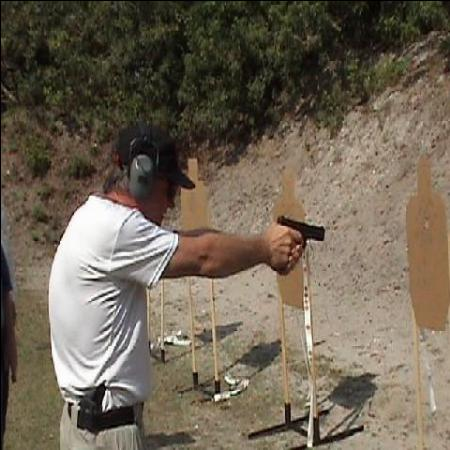Pistol: (271, 212, 323, 268)
